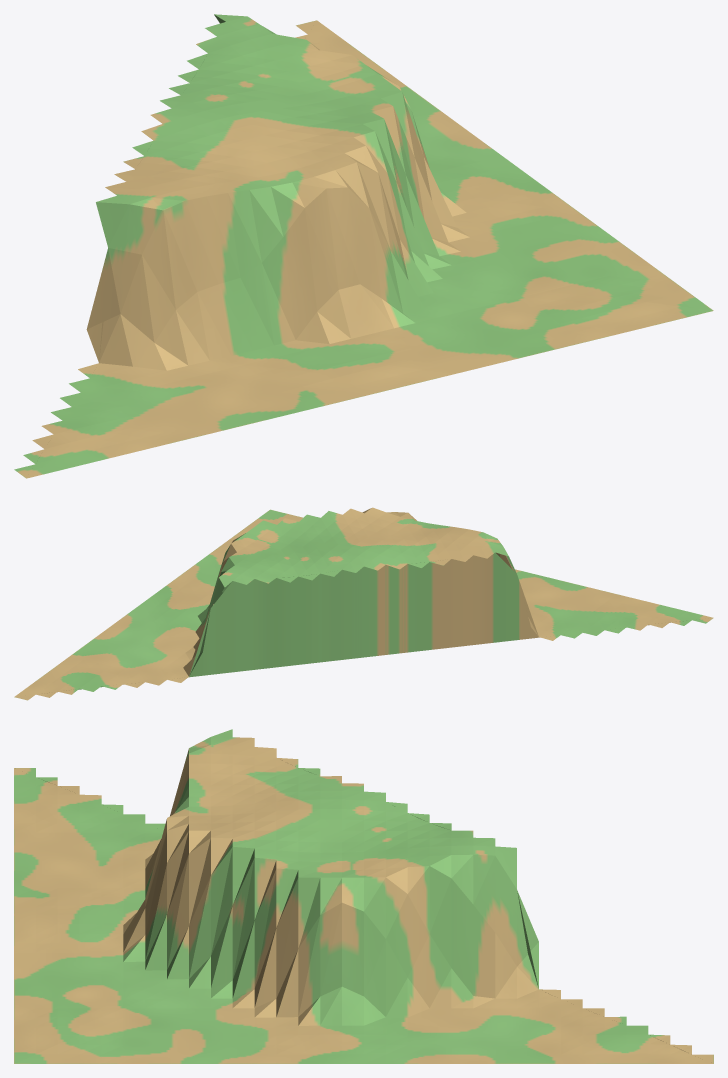
The model's file is Grass_Hills_08_NE.obj.
The picture shows the model from 3 angles, top to bottom: view 1: azimuth 30°, elevation 25°; view 2: azimuth 150°, elevation 25°; view 3: azimuth 270°, elevation 25°; orthographic projection. The views are drawn at different scales.
Bounding box in the file's own units: 10 × 1.98 × 10.
Materials: 1 (1 with a texture image).
